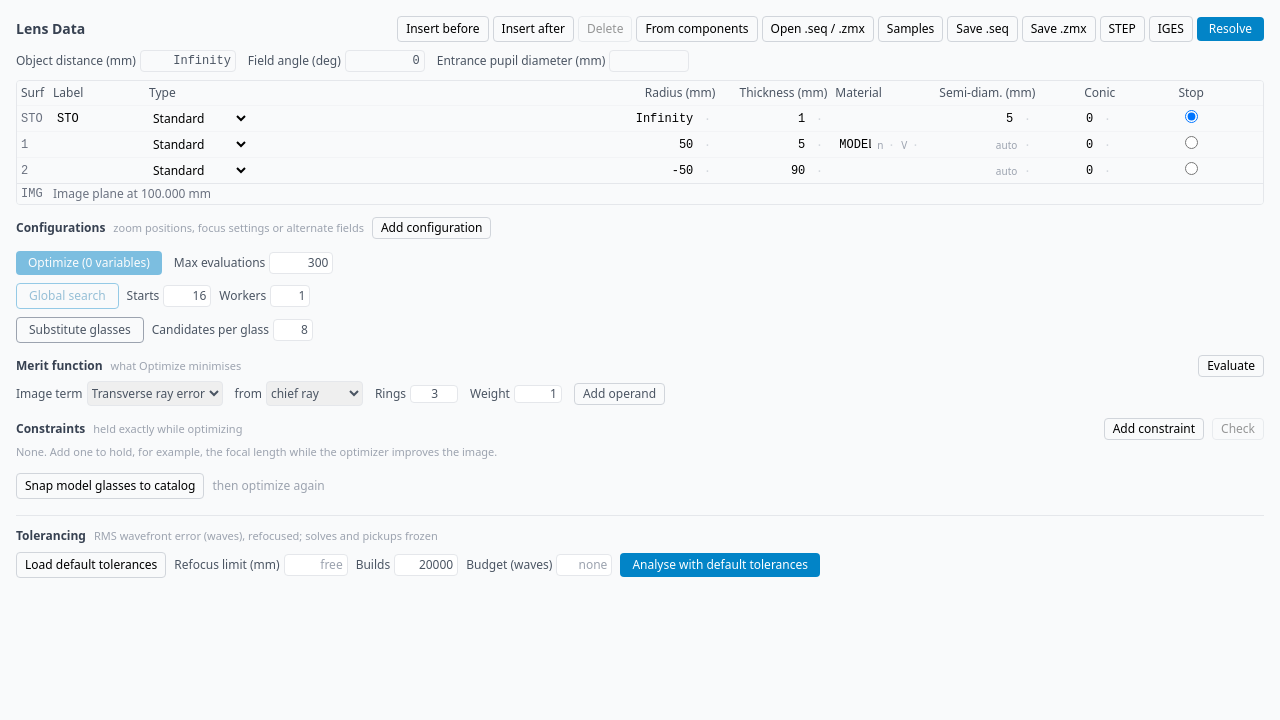
Scenario: model glasses › snaps model glasses through the backend and lists the substitutions
Click the button "Snap model glasses to catalog". click: (110, 486)
box: x1=16 y1=472 x2=204 y2=498
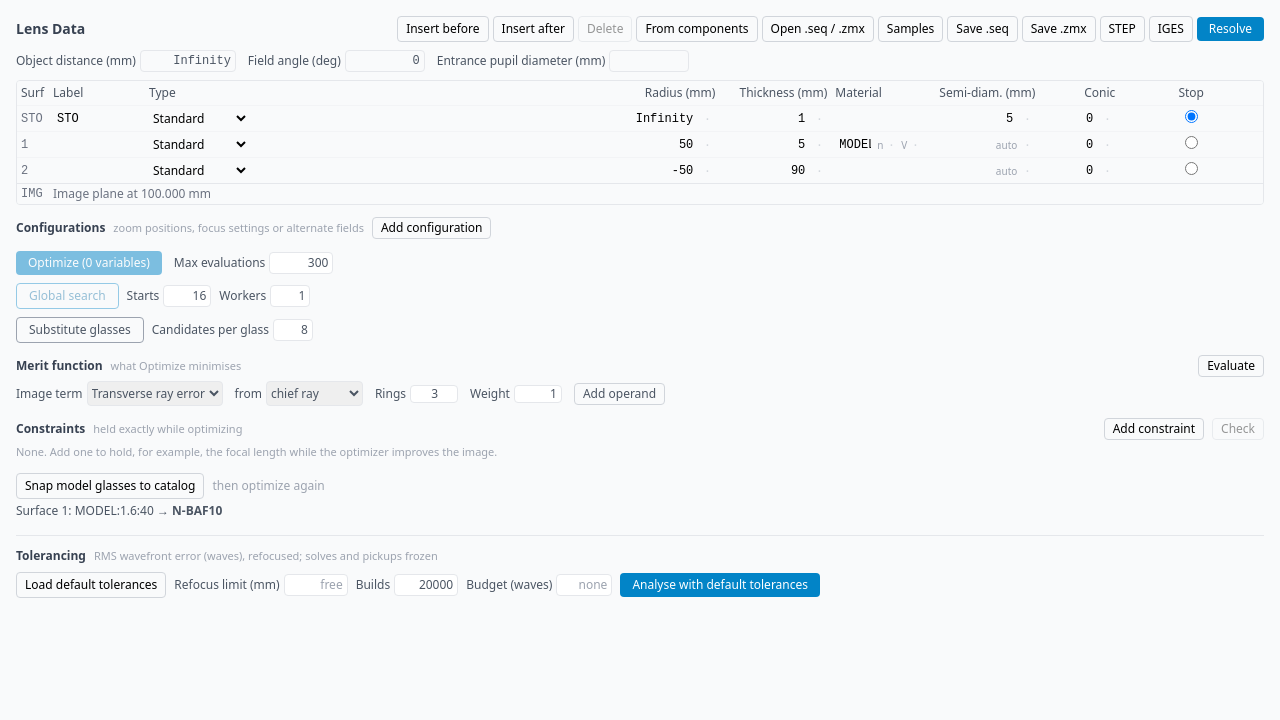
Result: the list with test id "substitutions" shows "N-BAF10" at x1=172 y1=502 x2=222 y2=518
